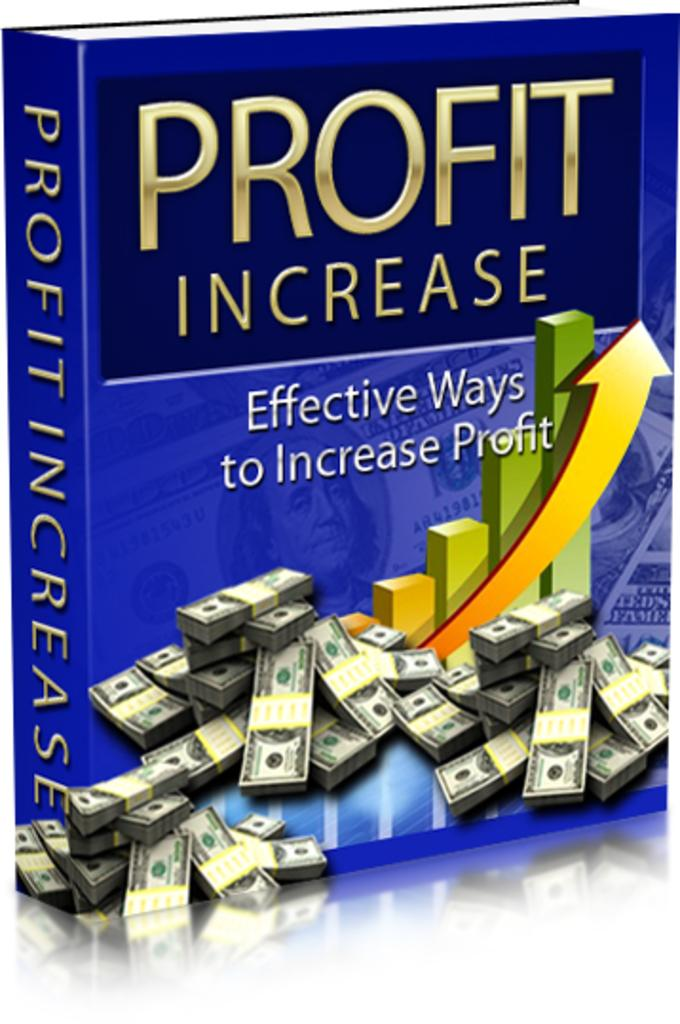book: (0, 21, 678, 914)
